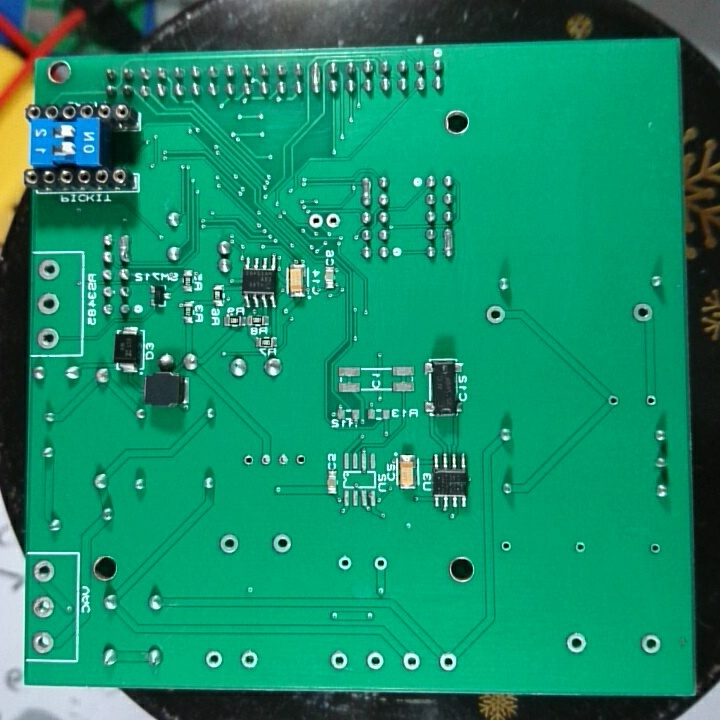F: (29, 592, 58, 621), (561, 628, 590, 656), (268, 529, 294, 560), (31, 556, 57, 587), (30, 630, 57, 657), (36, 289, 63, 316), (36, 256, 63, 283), (34, 324, 60, 351), (483, 303, 509, 329), (638, 632, 664, 658), (630, 299, 654, 326), (218, 532, 242, 559), (365, 649, 387, 675), (203, 646, 225, 672), (327, 648, 349, 673), (238, 648, 260, 671), (436, 651, 459, 672), (401, 650, 421, 673), (336, 552, 354, 575), (372, 552, 390, 575), (322, 209, 340, 231), (307, 209, 324, 230), (605, 393, 622, 412), (643, 392, 659, 410), (499, 537, 514, 556), (276, 451, 291, 470), (241, 452, 255, 472), (293, 451, 307, 470), (647, 540, 661, 558), (259, 451, 273, 469), (573, 540, 587, 555)
P: (441, 226, 459, 261), (116, 232, 134, 266), (307, 59, 322, 95), (360, 173, 375, 207)
